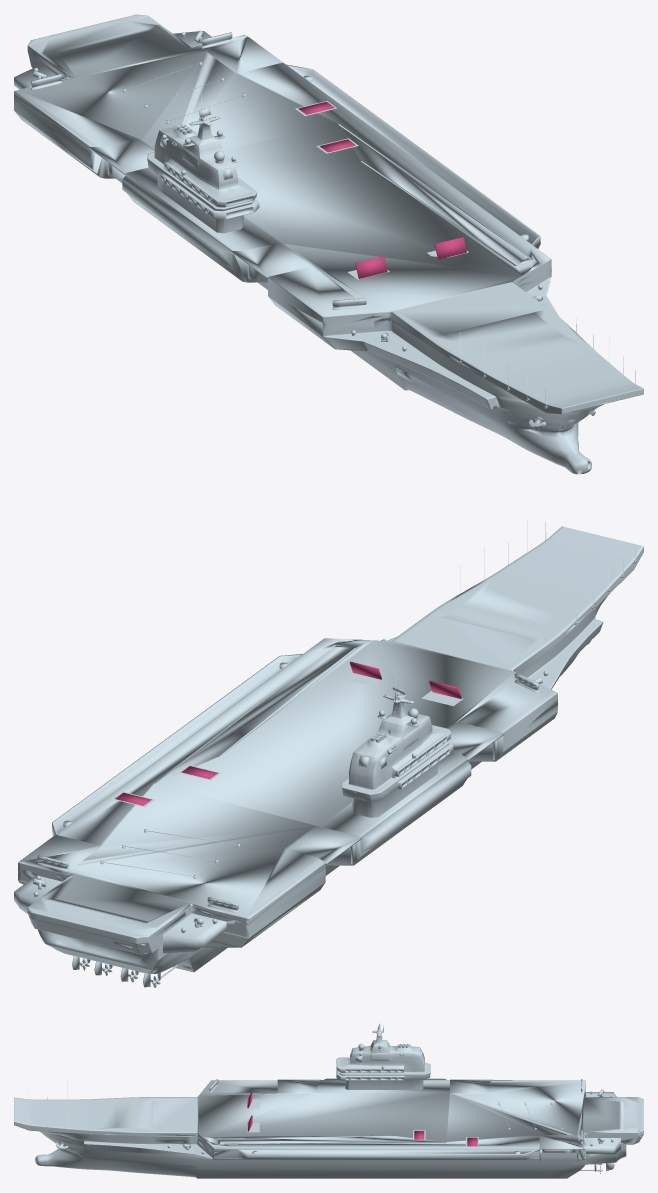
3 renders of one model, top to bottom at view 1: azimuth 30°, elevation 25°; view 2: azimuth 150°, elevation 25°; view 3: azimuth 270°, elevation 25°, orthographic. The views are drawn at different scales.
Size of the model in its own units: 151 by 111 by 529.
